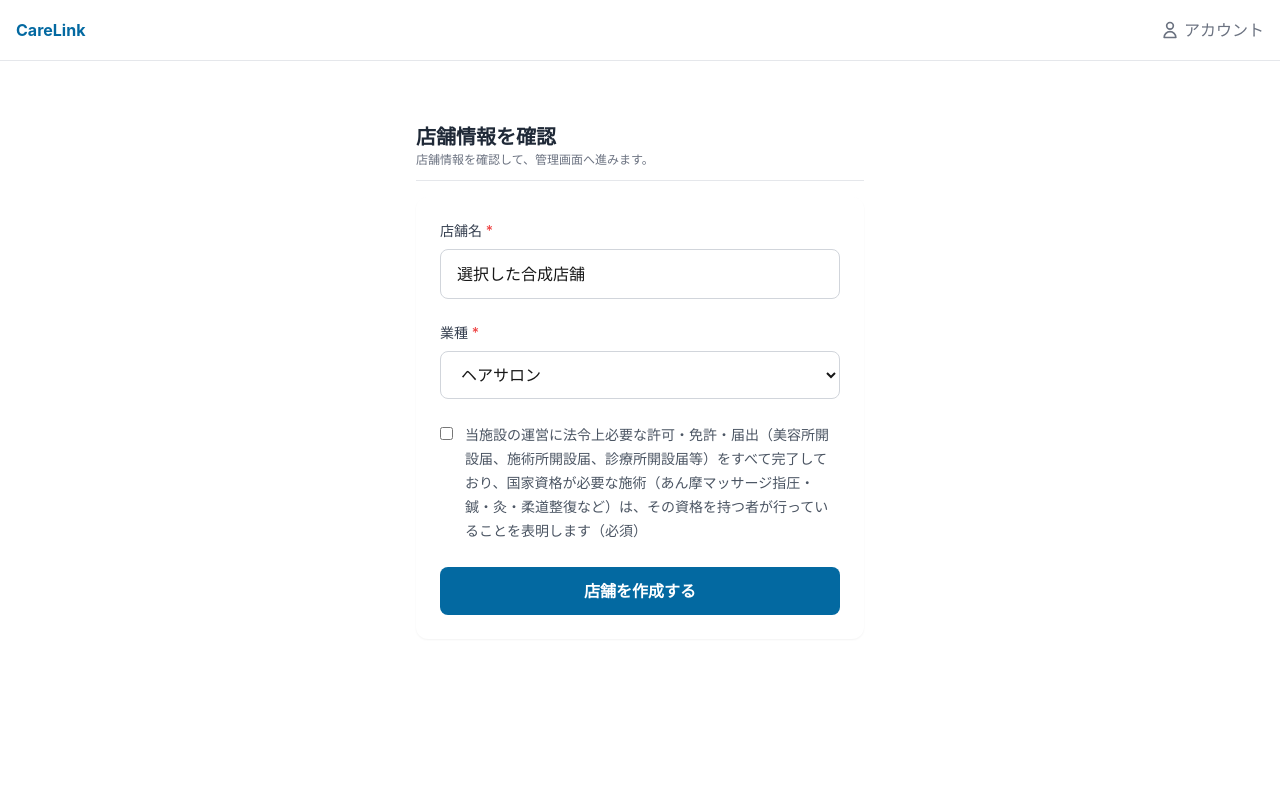
Test: selected registration handoff › changing tab context while form is open prevents wrong-receipt submission
This screenshot has width=1280, height=800.
Check: the field labelled "店舗名 *" is shown, box [440, 249, 840, 299]
Click the checkbox at x=446, y=434, box [440, 427, 453, 440]
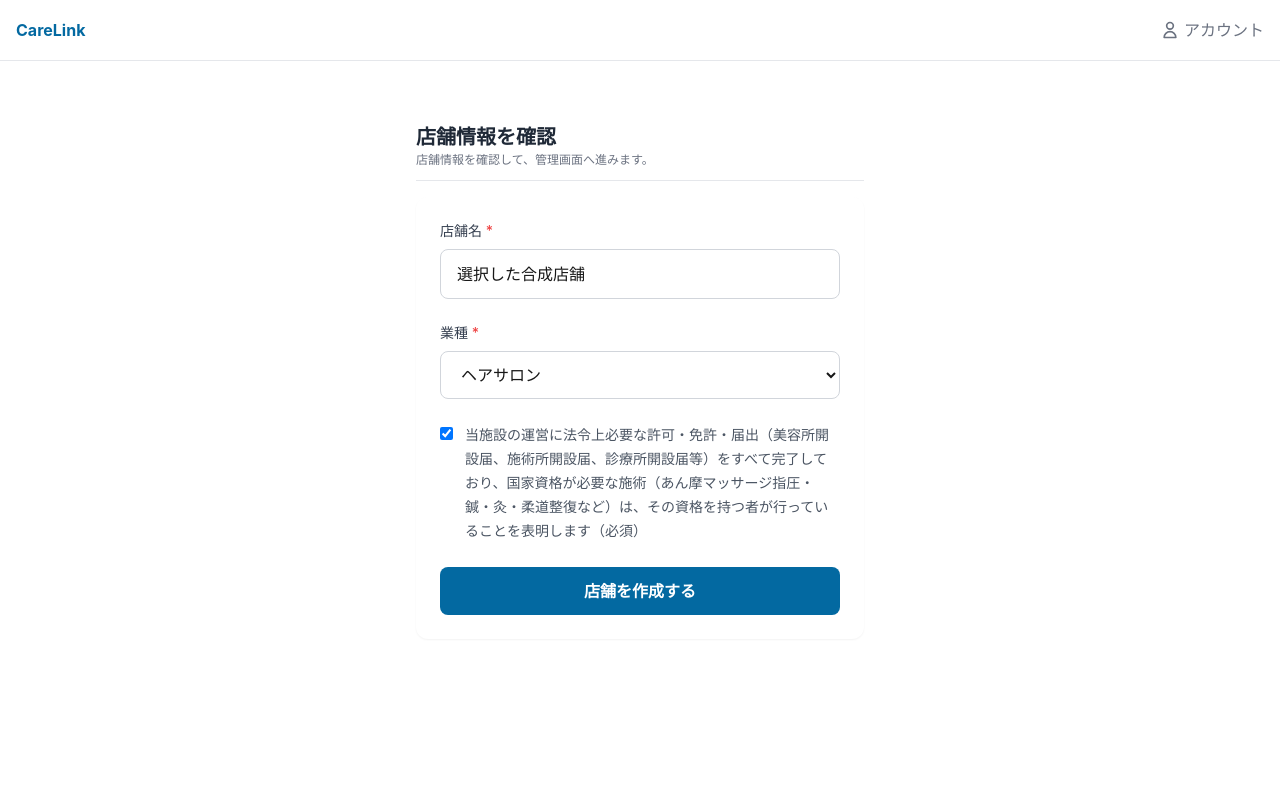
Click the button "店舗を作成する" at x=640, y=591, box [440, 567, 840, 615]
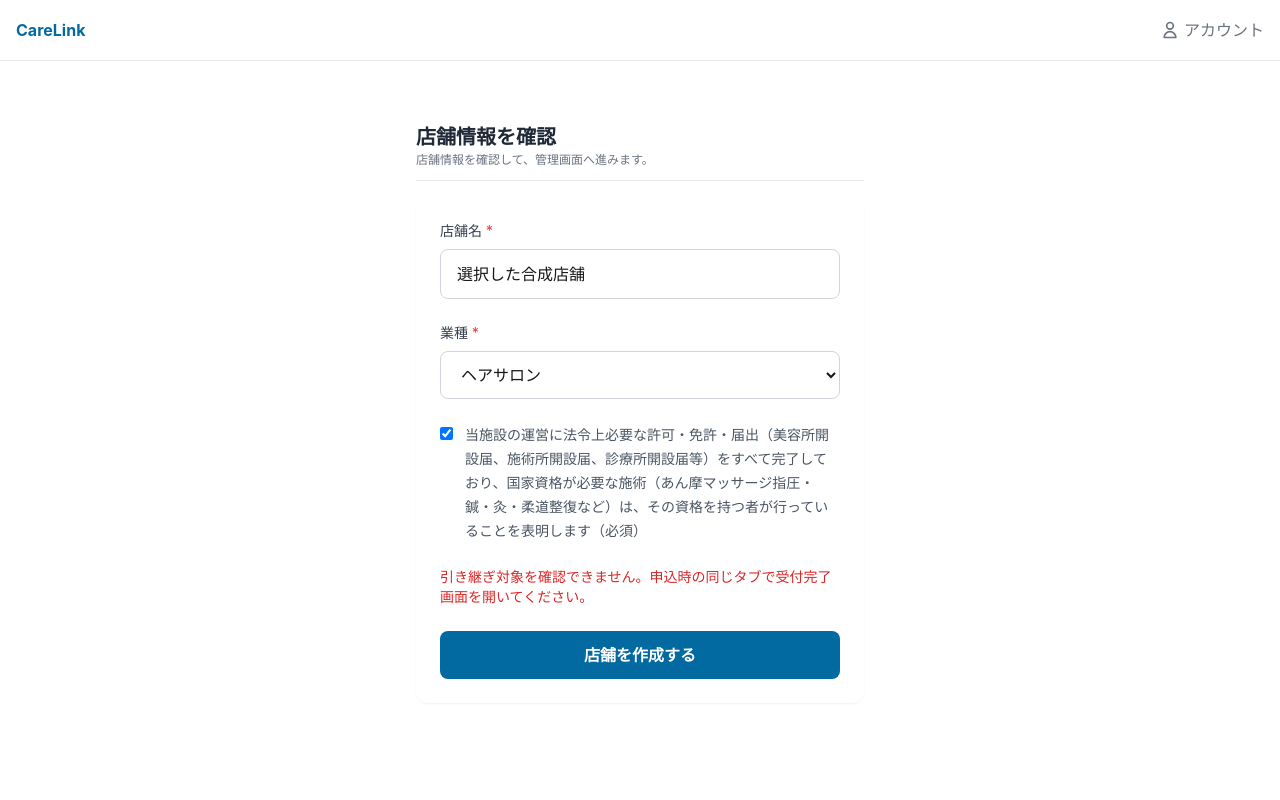
Check: the text "引き継ぎ対象を確認できません。申込時の同じタブで受付完了画面を開いてください。" is shown, box [440, 567, 840, 607]
